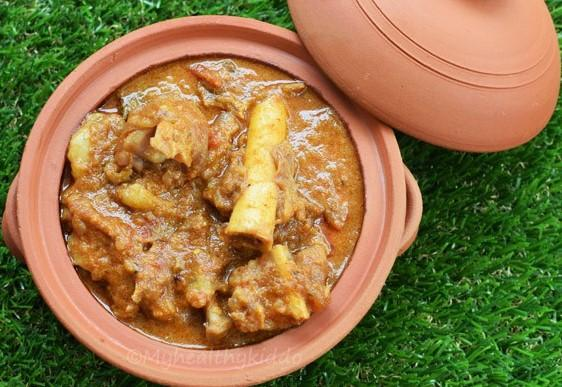MuttonCurry: (58, 56, 364, 344)
